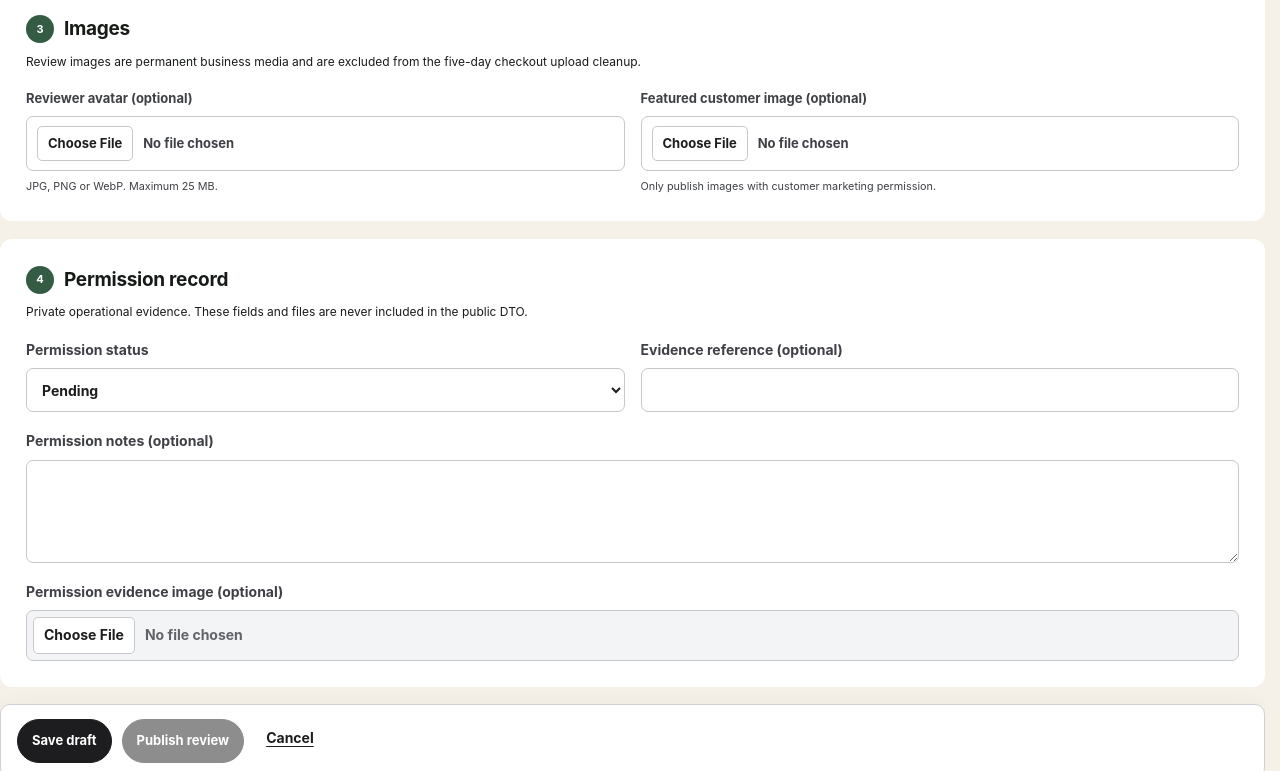
Test: CustomerReviewForm › disables publishing until permission is granted and the review recommends the business
The width and height of the screenshot is (1280, 771).
(page scrolled)
Expected: the button "Publish review" is disabled, [122, 719, 244, 763]
Select "Granted" in the dropdown labelled "Permission status" at (325, 390), box [26, 368, 624, 412]
(page scrolled)
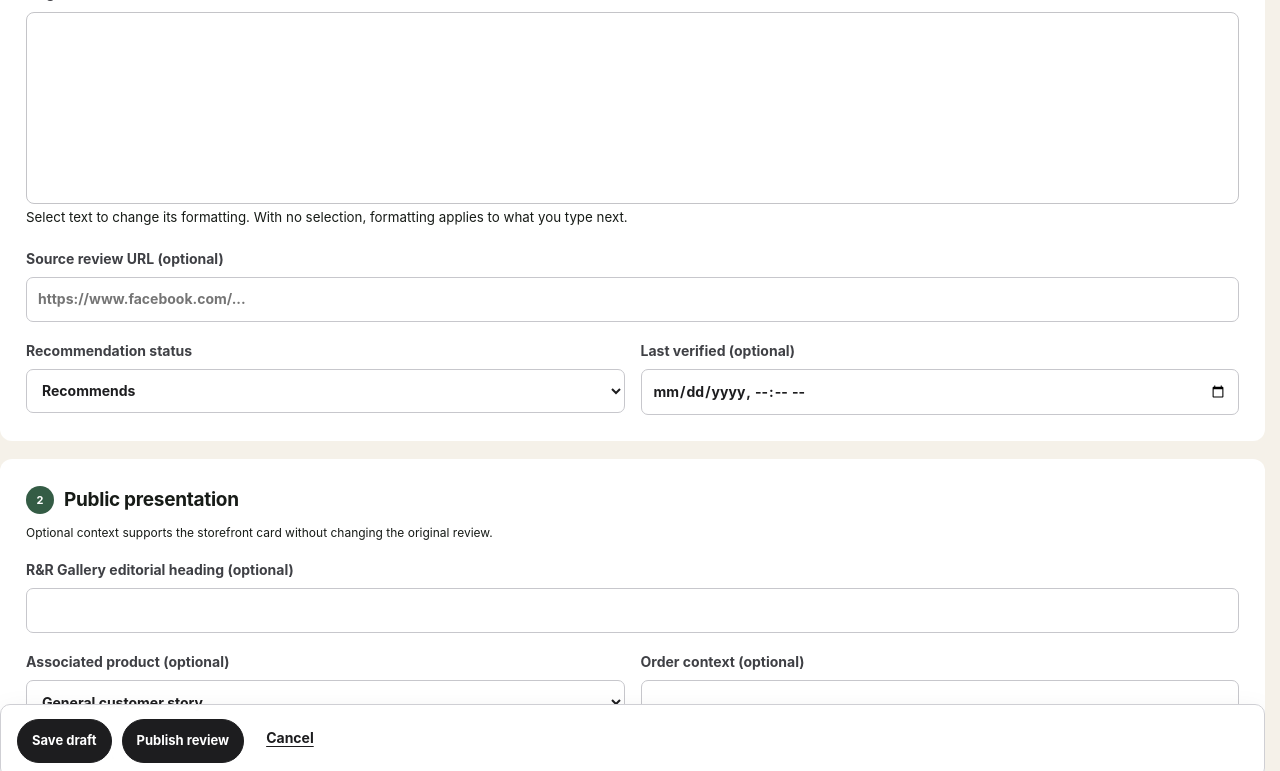
Result: the button "Publish review" is enabled at [122, 719, 244, 763]
Select "Does not recommend" in the dropdown labelled "Recommendation status" at (325, 391), box [26, 369, 624, 413]
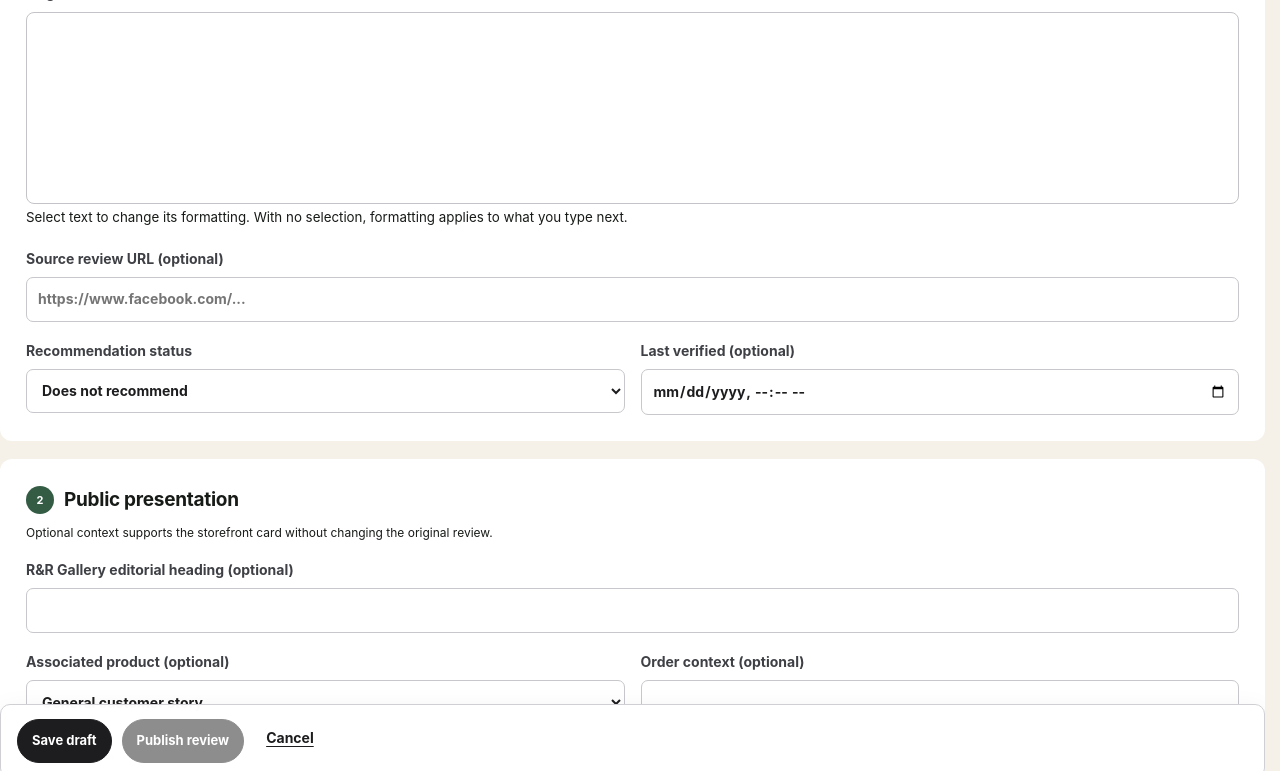
Result: the button "Publish review" is disabled at [122, 719, 244, 763]
